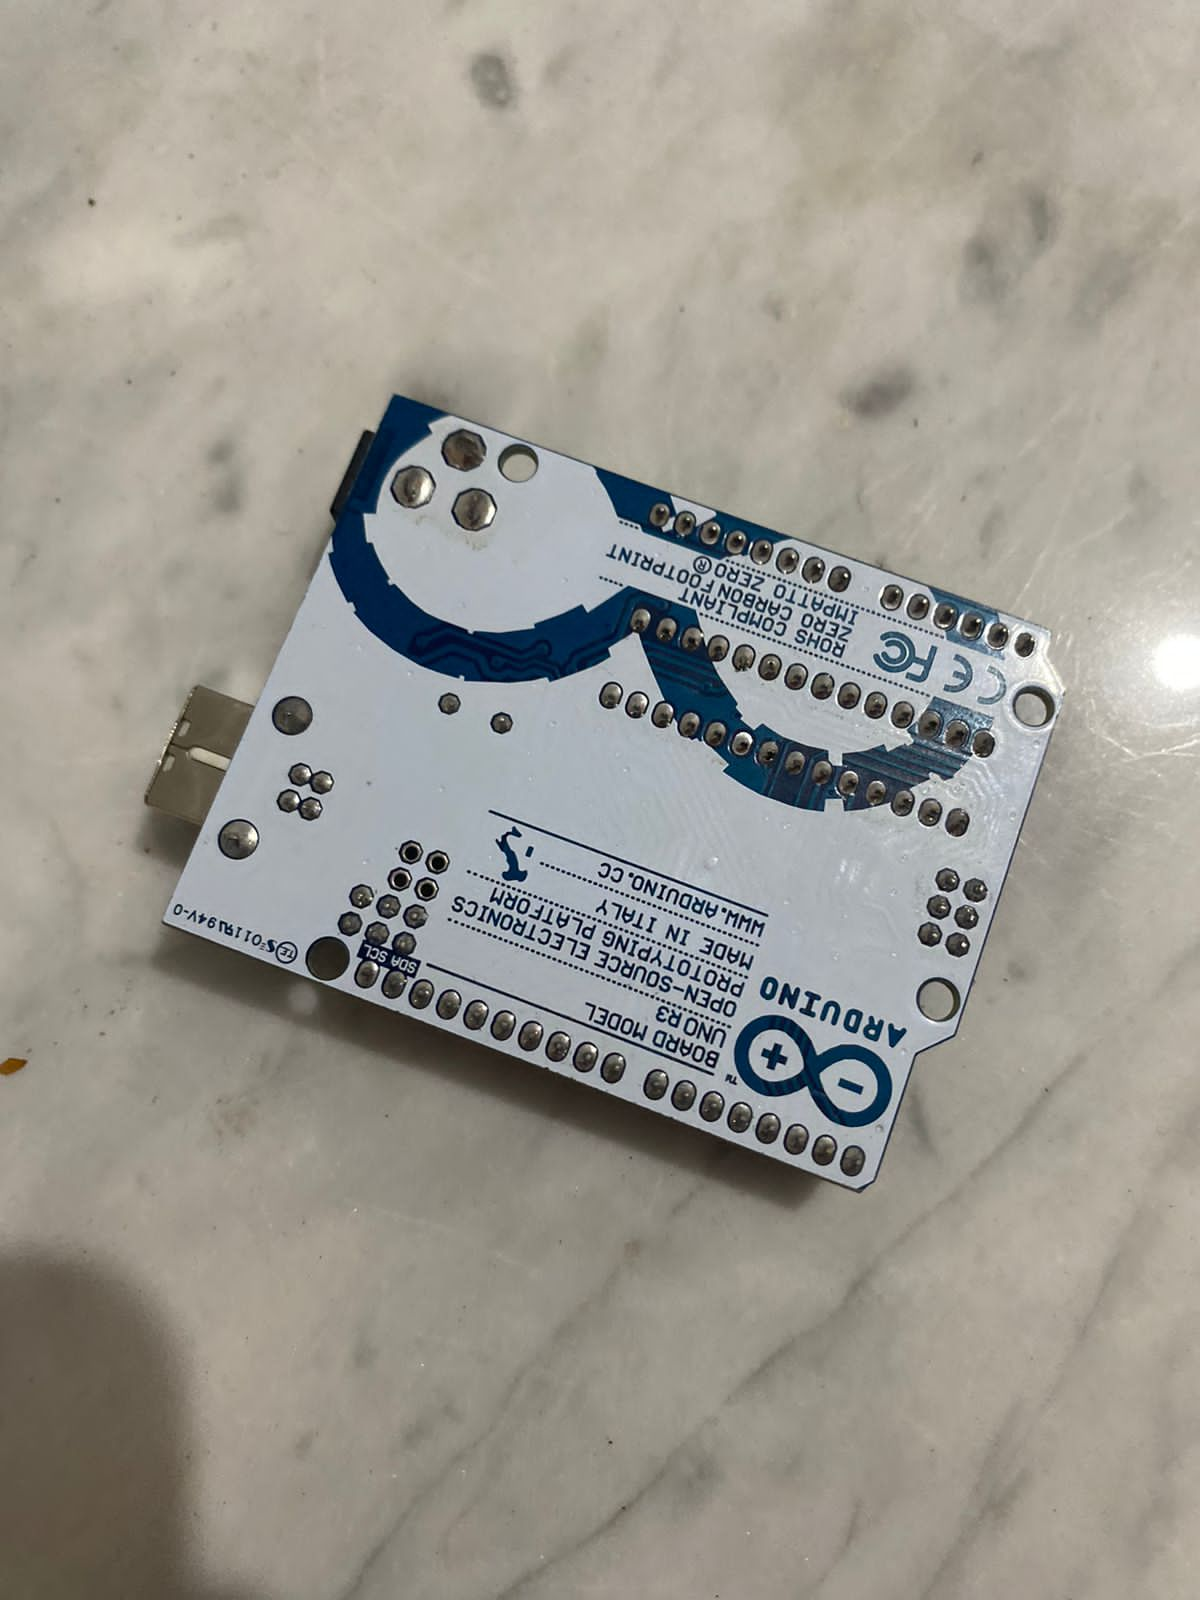arduino-uno: (140, 393, 1074, 1197)
